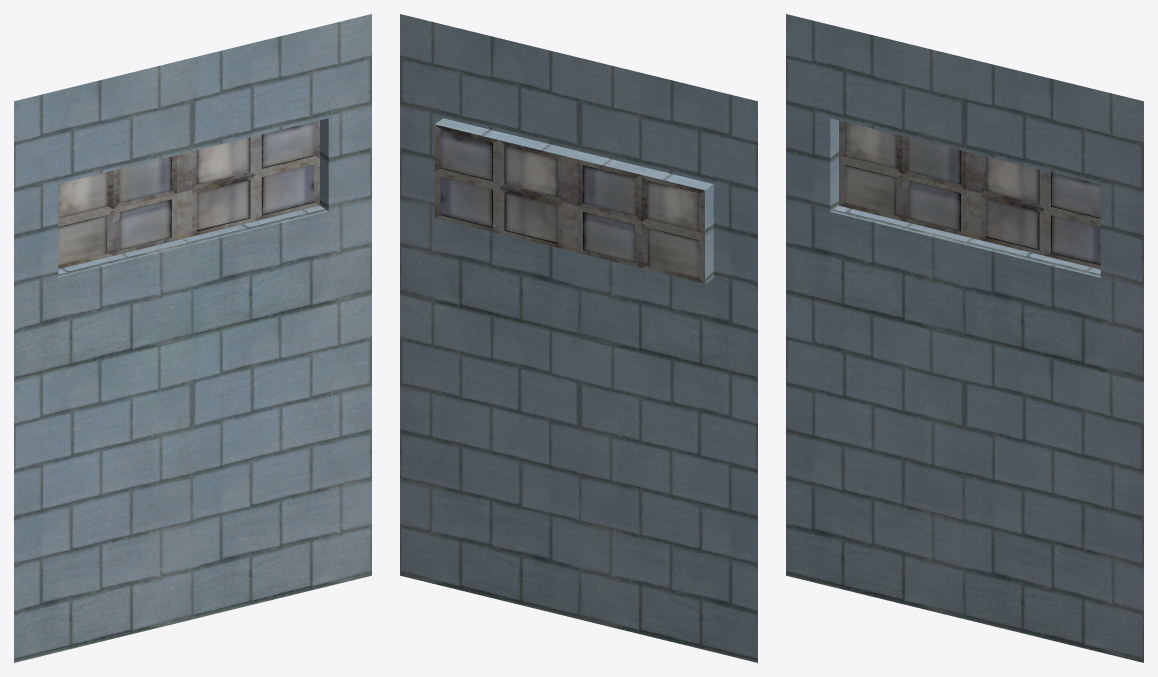
Rendered from Pared ventana pequena.fbx.
3 renders of one model, left to right at view 1: azimuth 30°, elevation 25°; view 2: azimuth 150°, elevation 25°; view 3: azimuth 330°, elevation 25°, orthographic.
Parts seen in each view (by area): view 1: Plane.004; view 2: Plane.004; view 3: Plane.004.
Boxes of the visible parts, <box> form: Plane.004: <box>14,14,371,662</box>; Plane.004: <box>400,14,757,662</box>; Plane.004: <box>786,14,1143,662</box>.
Size of the model in its own units: 4 by 6 by 0.1658.
